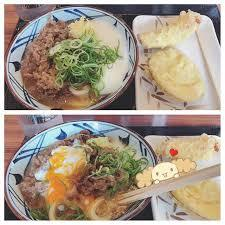niku: (8, 121, 152, 222), (11, 13, 126, 106)
satumaimo: (148, 48, 204, 102), (172, 179, 221, 220)
